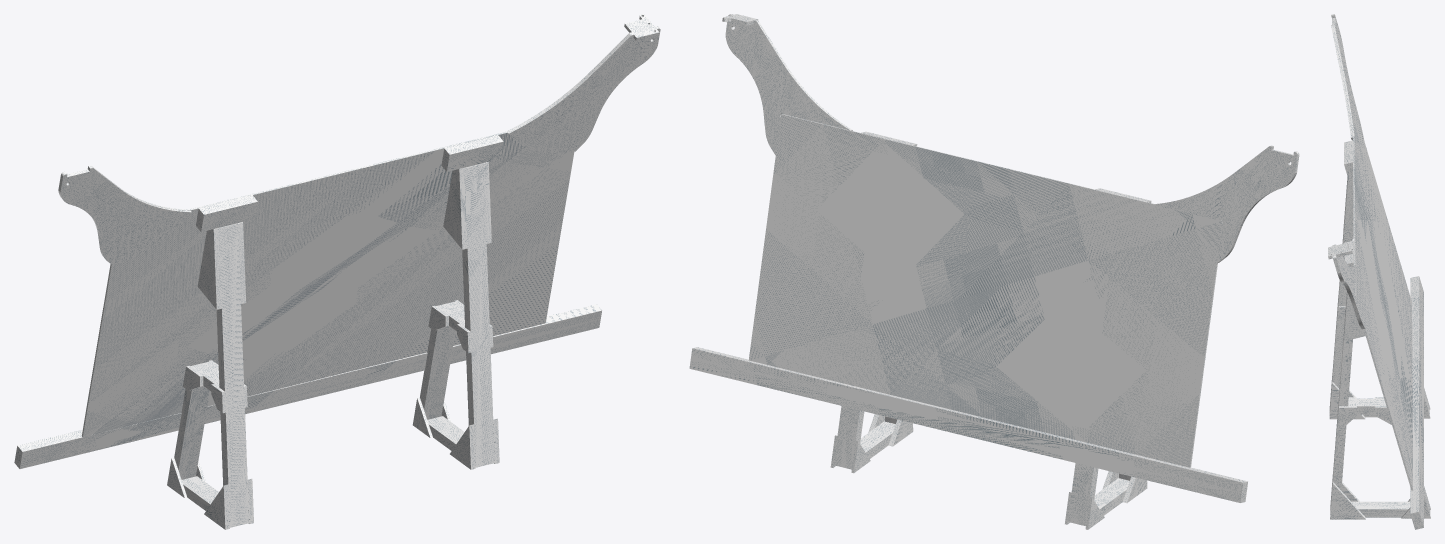
The model's file is Machine.dae.
3 views of the same model, side by side, from view 1: azimuth 30°, elevation 25°; view 2: azimuth 150°, elevation 25°; view 3: azimuth 270°, elevation 25° (orthographic). The views are drawn at different scales.
Parts seen in each view (by area): view 1: group_0, _2by4 (×2), top_arm_front_2 (×2), group_1, _2by4_1 (×2), group_3 (×2), topWedge (×2), short2by4 (×2); view 2: group_0, group_1, top_arm_front (×2), _2by4_1 (×2), short2by4 (×2); view 3: group_0, group_1, _2by4 (×2), top_arm_front (×2), bottomFrontWedge (×3), topWedge (×2), short2by4, top_arm_front_2 (×2), group_4, group_3 (×2), middleBrace2 (×2), group_5 (+2 smaller).
Part boxes in pixels (<box>): group_0: <box>82,131,574,436</box>; _2by4 (×2): <box>216,163,494,527</box>; top_arm_front_2 (×2): <box>59,27,660,265</box>; group_1: <box>14,304,602,468</box>; _2by4_1 (×2): <box>174,326,455,479</box>; group_3 (×2): <box>196,135,503,231</box>; topWedge (×2): <box>197,168,467,309</box>; short2by4 (×2): <box>181,416,464,510</box>; group_0: <box>749,114,1222,467</box>; group_1: <box>689,347,1247,502</box>; top_arm_front (×2): <box>725,14,1298,263</box>; _2by4_1 (×2): <box>833,406,1098,526</box>; short2by4 (×2): <box>860,421,1129,515</box>; group_0: <box>1352,108,1413,490</box>; group_1: <box>1410,276,1423,529</box>; _2by4 (×2): <box>1329,177,1352,512</box>; top_arm_front (×2): <box>1333,14,1365,328</box>; bottomFrontWedge (×3): <box>1329,382,1365,519</box>; topWedge (×2): <box>1343,179,1365,341</box>; short2by4: <box>1351,501,1410,517</box>; top_arm_front_2 (×2): <box>1331,14,1363,329</box>; group_4: <box>1348,398,1386,414</box>; group_3 (×2): <box>1344,140,1353,266</box>; middleBrace2 (×2): <box>1337,306,1356,424</box>; group_5: <box>1328,242,1354,259</box>.
Bounding box in the file's own units: 124 × 22.13 × 79.22.
